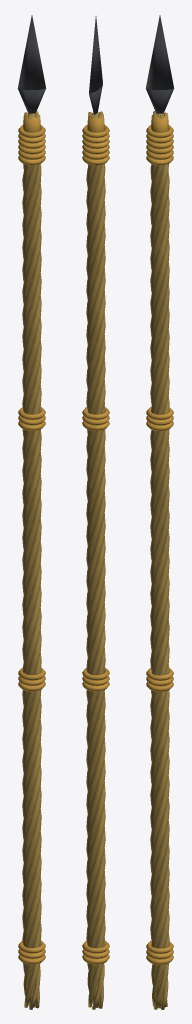
File: reed-spear.glb
3 views of the same model, side by side, from view 1: azimuth 90°, elevation 25°; view 2: azimuth 150°, elevation 25°; view 3: azimuth 270°, elevation 25° (orthographic).
Visible parts, largest first — view 1: shaft, bindings, head; view 2: shaft, bindings, head; view 3: shaft, bindings, head.
Boxes of the visible parts, <box> form: shaft: <box>22,111,41,1009</box>; bindings: <box>18,113,45,964</box>; head: <box>17,15,46,113</box>; shaft: <box>86,111,105,1009</box>; bindings: <box>82,113,109,964</box>; head: <box>89,16,102,114</box>; shaft: <box>150,111,169,1009</box>; bindings: <box>146,114,173,964</box>; head: <box>145,15,174,113</box>.
Size of the model in its own units: 0.102 by 4 by 0.104.
